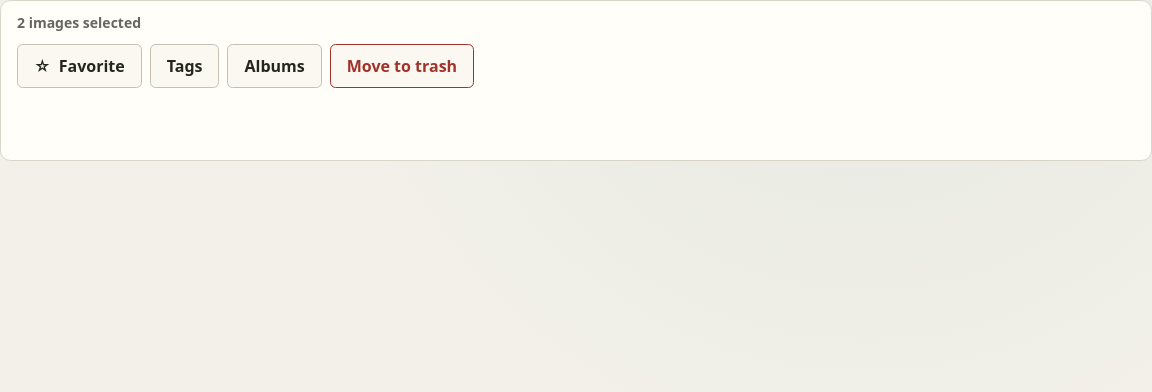
curation actions › reports every image in a selection the bulk route refused
Click the button "Tags": {"x": 185, "y": 66} x1=150 y1=44 x2=219 y2=88
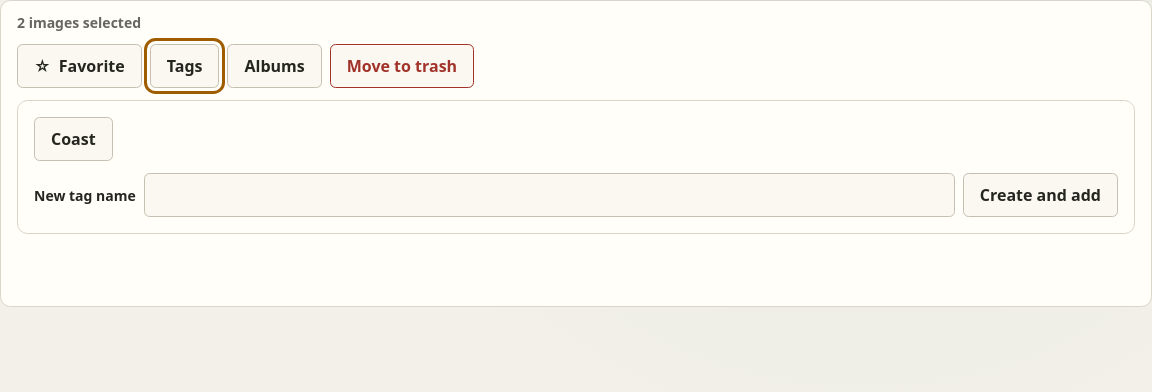
Click the button "Coast": {"x": 73, "y": 139} x1=34 y1=117 x2=113 y2=161
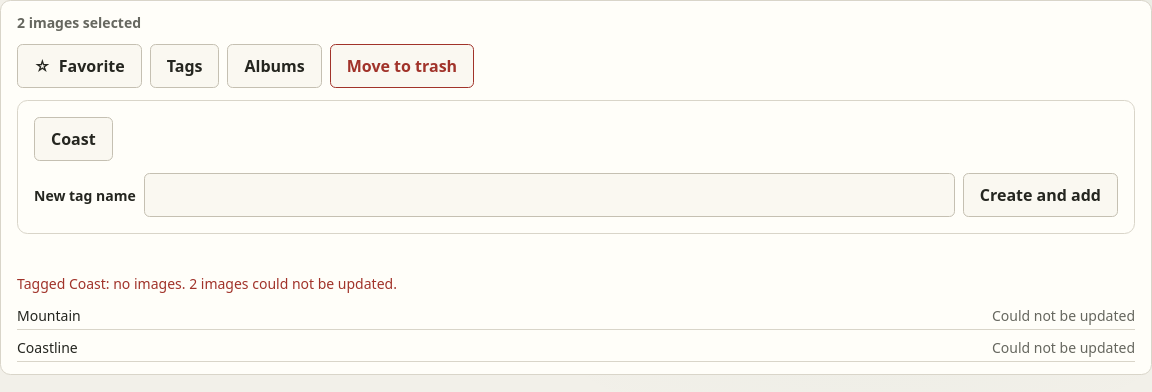
Now the message named "Curation result" reads "Tagged Coast: no images. 2 images could not be updated.", box x1=17 y1=274 x2=397 y2=293
Now the list named "Result for each image" shows "Could not be updated", box x1=992 y1=306 x2=1135 y2=325
